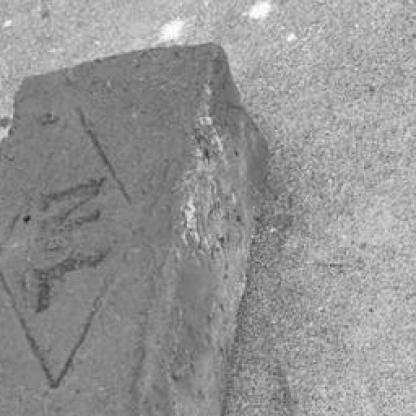brick: (2, 38, 275, 414)
